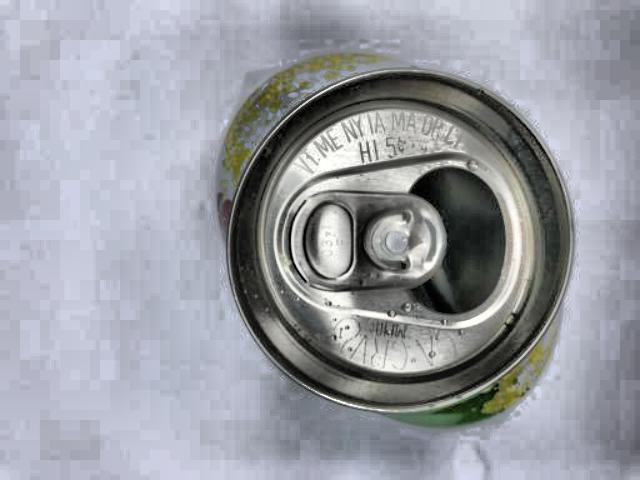Bottles: (187, 39, 577, 449)
